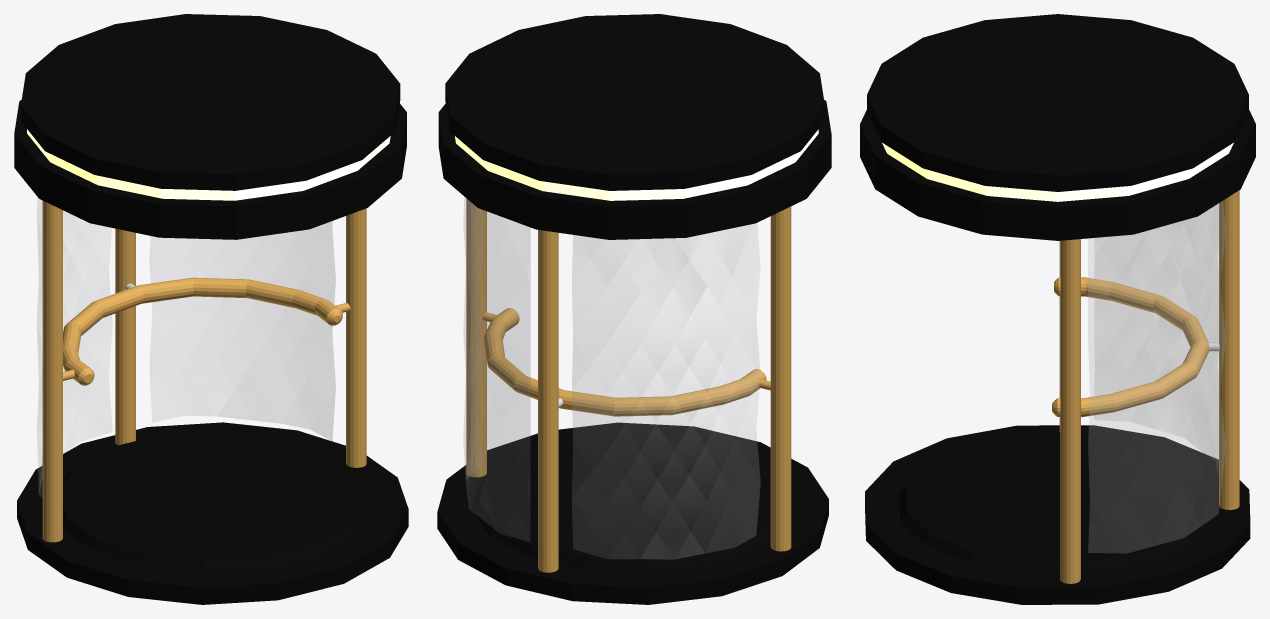
File: elevator_05.glb
3 views of the same model, side by side, from view 1: azimuth 30°, elevation 25°; view 2: azimuth 150°, elevation 25°; view 3: azimuth 270°, elevation 25° (orthographic).
Visible parts, largest first — view 1: elevator; view 2: elevator; view 3: elevator.
Boxes of the visible parts, x1,y1,x2,y2 form: elevator: (14,14,408,604); elevator: (437,14,831,604); elevator: (860,14,1255,604).
Size of what is drawn, in the model's own units: 4.33 by 5.16 by 4.33.
